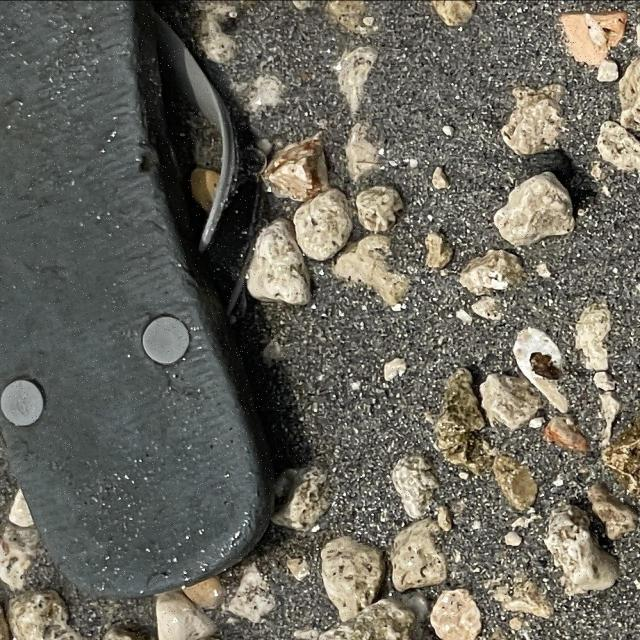rubber_waste: (1, 4, 278, 608)
